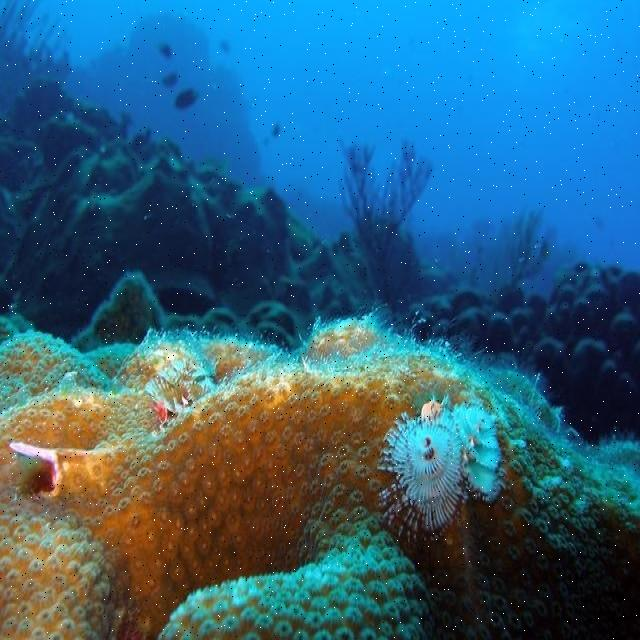aquatic plants: (336, 136, 437, 306), (511, 206, 549, 286)
reefs: (0, 315, 639, 639)
